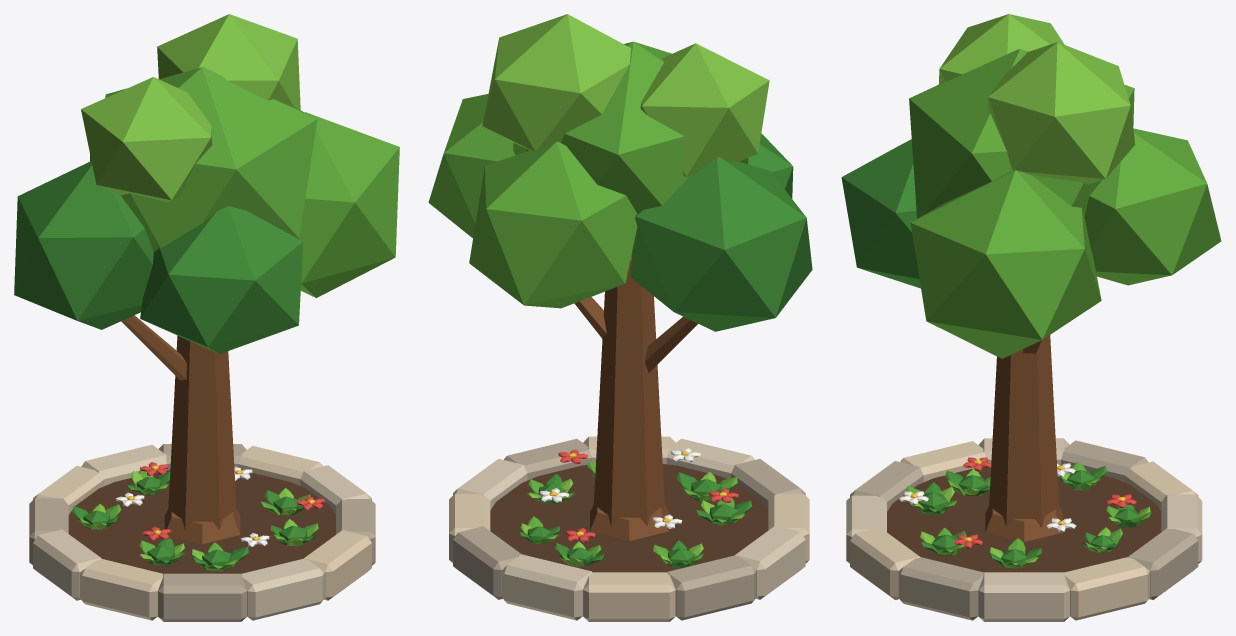
The model's file is broad_tree_bed.glb.
The picture shows the model from 3 angles, left to right: view 1: azimuth 30°, elevation 25°; view 2: azimuth 150°, elevation 25°; view 3: azimuth 270°, elevation 25°; orthographic projection. The views are drawn at different scales.
Parts seen in each view (by area): view 1: broad_tree_bed; view 2: broad_tree_bed; view 3: broad_tree_bed.
Boxes of the visible parts, x1,y1,x2,y2 form: broad_tree_bed: [14, 14, 399, 621]; broad_tree_bed: [428, 14, 812, 621]; broad_tree_bed: [841, 14, 1221, 621].
Bounding box in the file's own units: 2.46 × 3.44 × 2.24.
